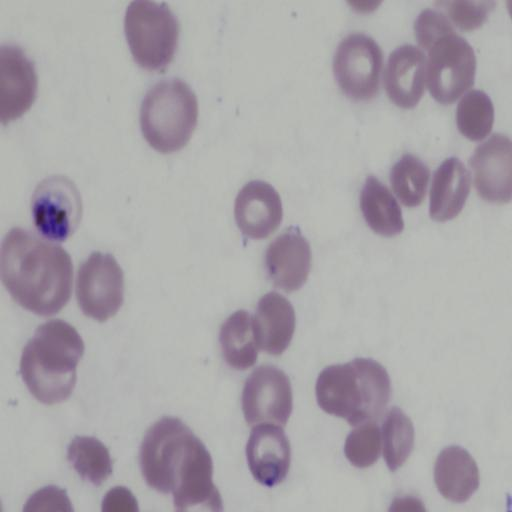Infected: (28, 175, 83, 241), (247, 424, 293, 487)
Uninfected: (138, 81, 201, 154), (126, 0, 177, 70), (424, 37, 476, 105), (76, 250, 125, 322), (242, 366, 294, 430), (233, 177, 284, 240), (358, 170, 407, 235), (332, 35, 384, 96), (428, 158, 472, 223), (262, 235, 312, 291), (386, 44, 429, 109), (251, 295, 296, 357), (471, 134, 512, 202), (434, 447, 482, 503), (220, 307, 262, 368), (67, 431, 113, 483), (392, 150, 431, 205), (456, 93, 496, 140)
